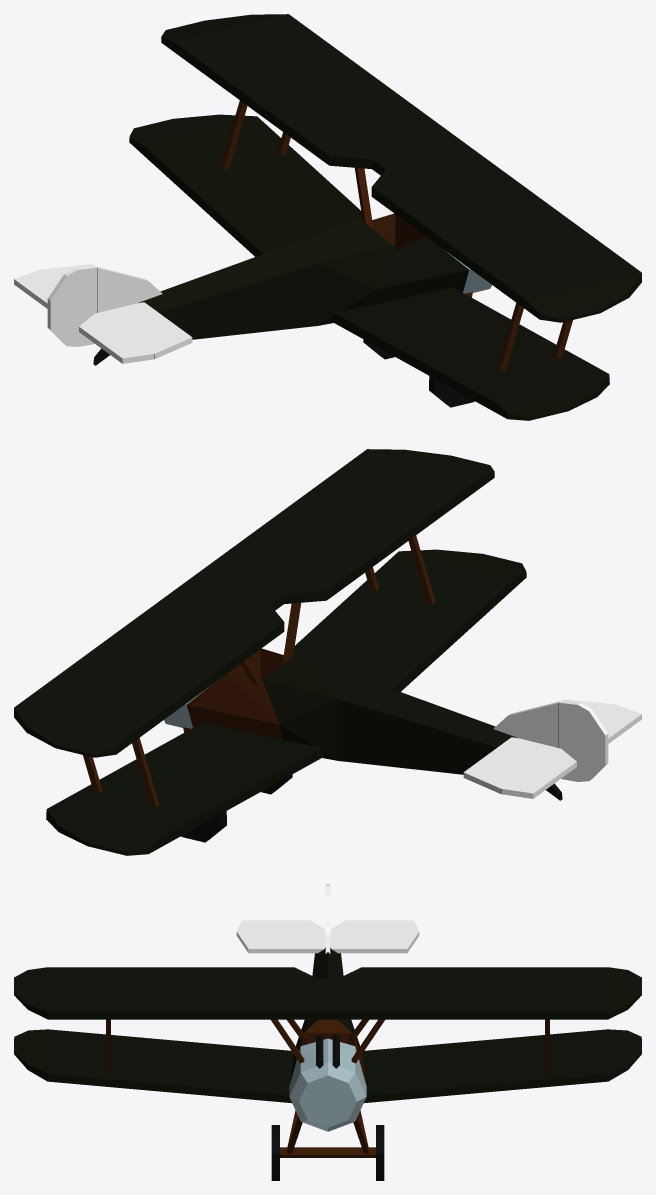
File: sc_noprop.obj
The picture shows the model from 3 angles, top to bottom: view 1: azimuth 30°, elevation 25°; view 2: azimuth 150°, elevation 25°; view 3: azimuth 270°, elevation 25°; orthographic projection. The views are drawn at different scales.
Parts seen in each view (by area): view 1: Wings_Plane.001, Body_Circle, Tail_Cube.001; view 2: Wings_Plane.001, Body_Circle, Tail_Cube.001; view 3: Wings_Plane.001, Body_Circle.
Part boxes in pixels (x1,y1,x2,y2): Wings_Plane.001: (129,14,641,420); Body_Circle: (14,213,491,407); Tail_Cube.001: (47,266,96,346); Wings_Plane.001: (14,449,526,855); Body_Circle: (164,648,641,842); Tail_Cube.001: (559,701,608,781); Wings_Plane.001: (14,967,641,1103); Body_Circle: (236,895,419,1180).
Size of the model in its own units: 5.51 by 2.73 by 8.65.
